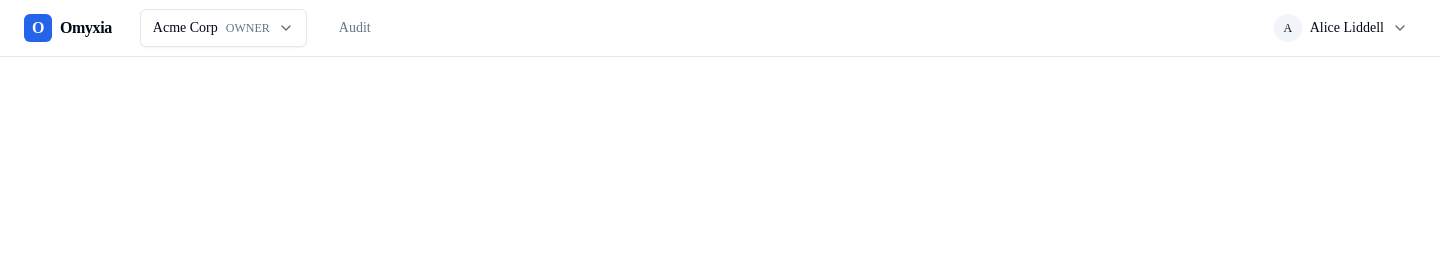
Test: Topbar › closes the user menu when Escape is pressed
Click the button with test id "topbar-user-trigger": (1341, 28) [1266, 8, 1416, 48]
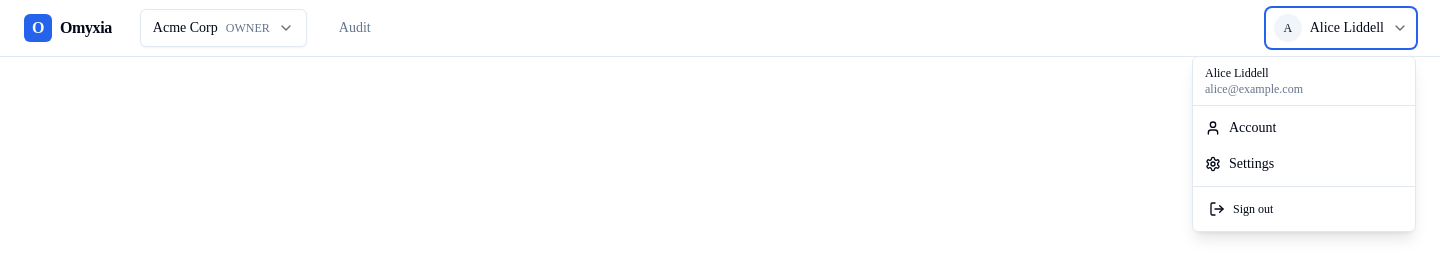
Now the menu with test id "topbar-user-menu" is shown, box [1192, 56, 1416, 232]
Press Escape
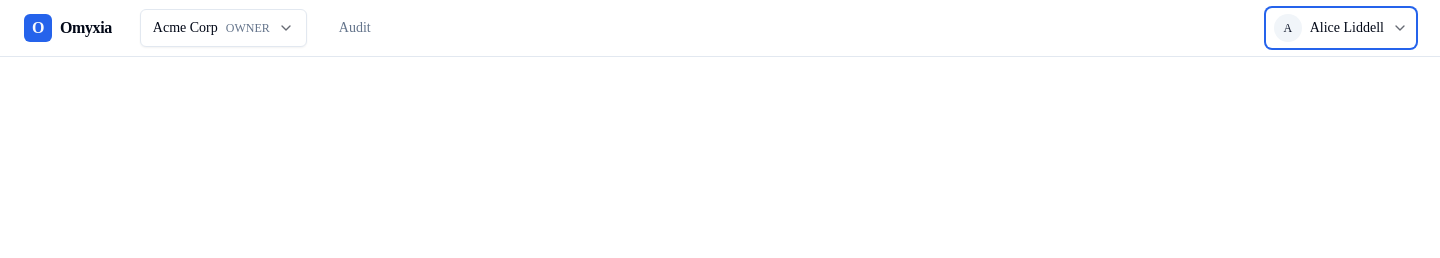
Now the menu with test id "topbar-user-menu" is gone
